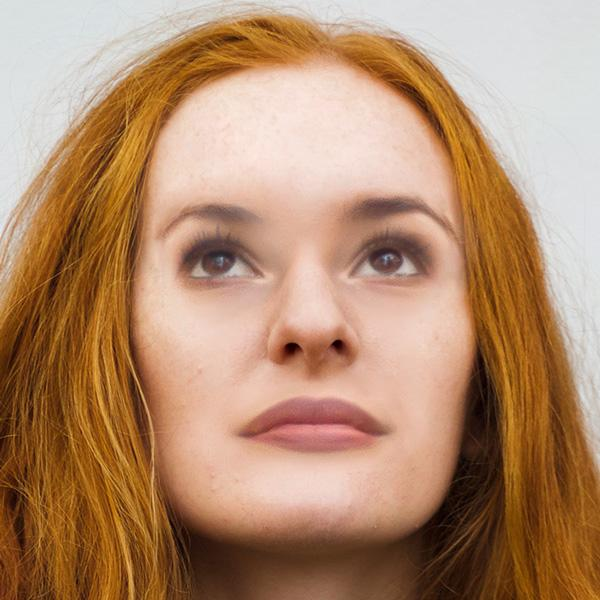Eyes: (165, 231, 277, 292), (336, 227, 440, 291)
